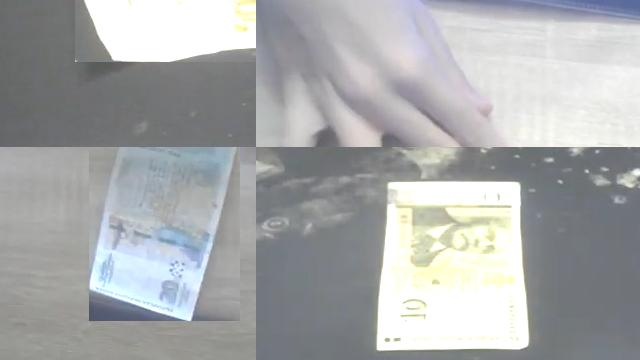10leva: (394, 295, 440, 333)
20leva: (89, 147, 238, 321)
